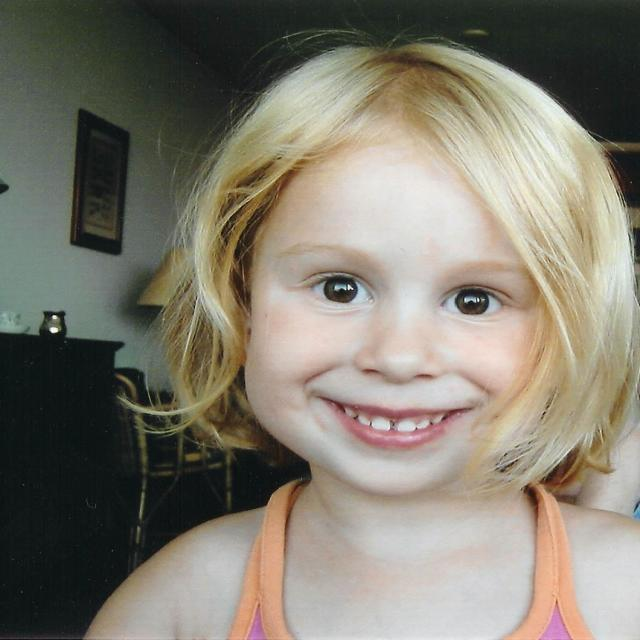no-glass: (290, 274, 516, 318)
